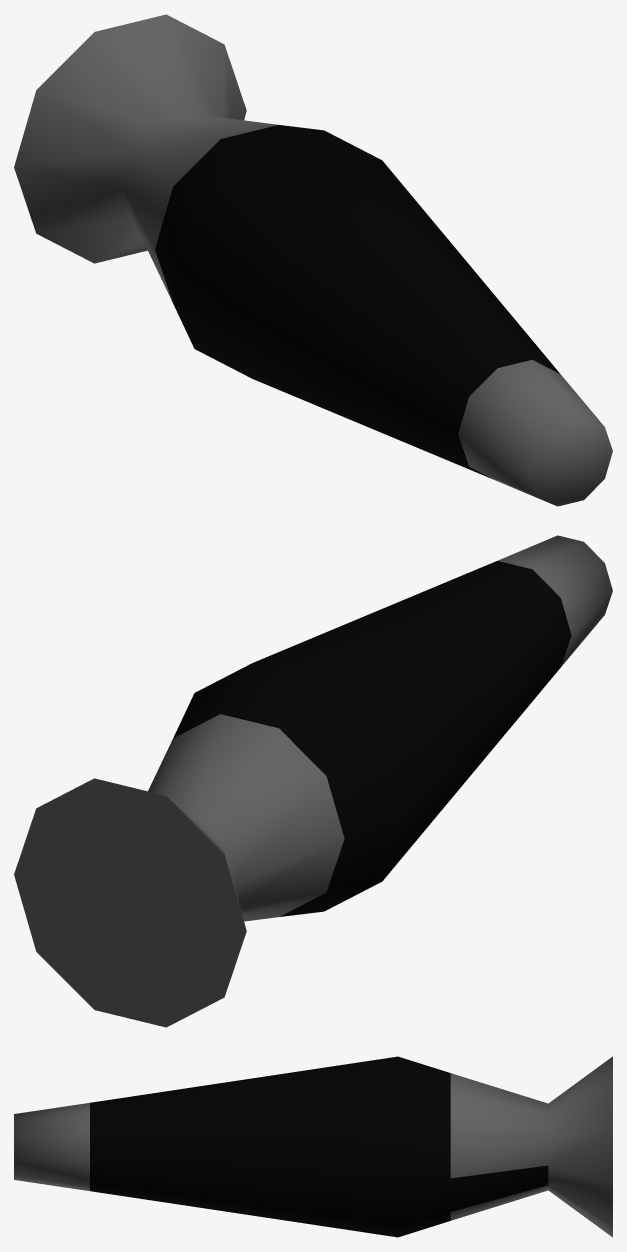
The model's file is nt_2020_lava_lamp_01_LOD2.obj.
The picture shows the model from 3 angles, top to bottom: view 1: azimuth 30°, elevation 25°; view 2: azimuth 150°, elevation 25°; view 3: azimuth 270°, elevation 25°; orthographic projection. The views are drawn at different scales.
Visible parts, largest first — view 1: mtl_nt_2020_lava_lamp_01, mtl_nt_2020_lava_lamp_01_chrome; view 2: mtl_nt_2020_lava_lamp_01_chrome, mtl_nt_2020_lava_lamp_01; view 3: mtl_nt_2020_lava_lamp_01, mtl_nt_2020_lava_lamp_01_chrome.
Part boxes in pixels (bbox=[...]): mtl_nt_2020_lava_lamp_01: bbox=[155, 125, 559, 480]; mtl_nt_2020_lava_lamp_01_chrome: bbox=[14, 14, 612, 506]; mtl_nt_2020_lava_lamp_01_chrome: bbox=[14, 535, 612, 1027]; mtl_nt_2020_lava_lamp_01: bbox=[173, 561, 571, 916]; mtl_nt_2020_lava_lamp_01: bbox=[90, 1056, 548, 1237]; mtl_nt_2020_lava_lamp_01_chrome: bbox=[14, 1056, 612, 1237].
Size of the model in its own units: 17.96 by 17.08 by 58.85.
